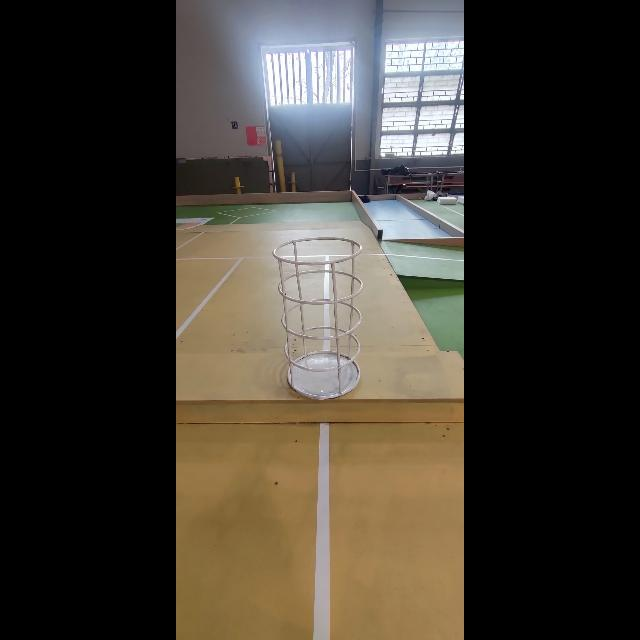S: (273, 234, 365, 400)
